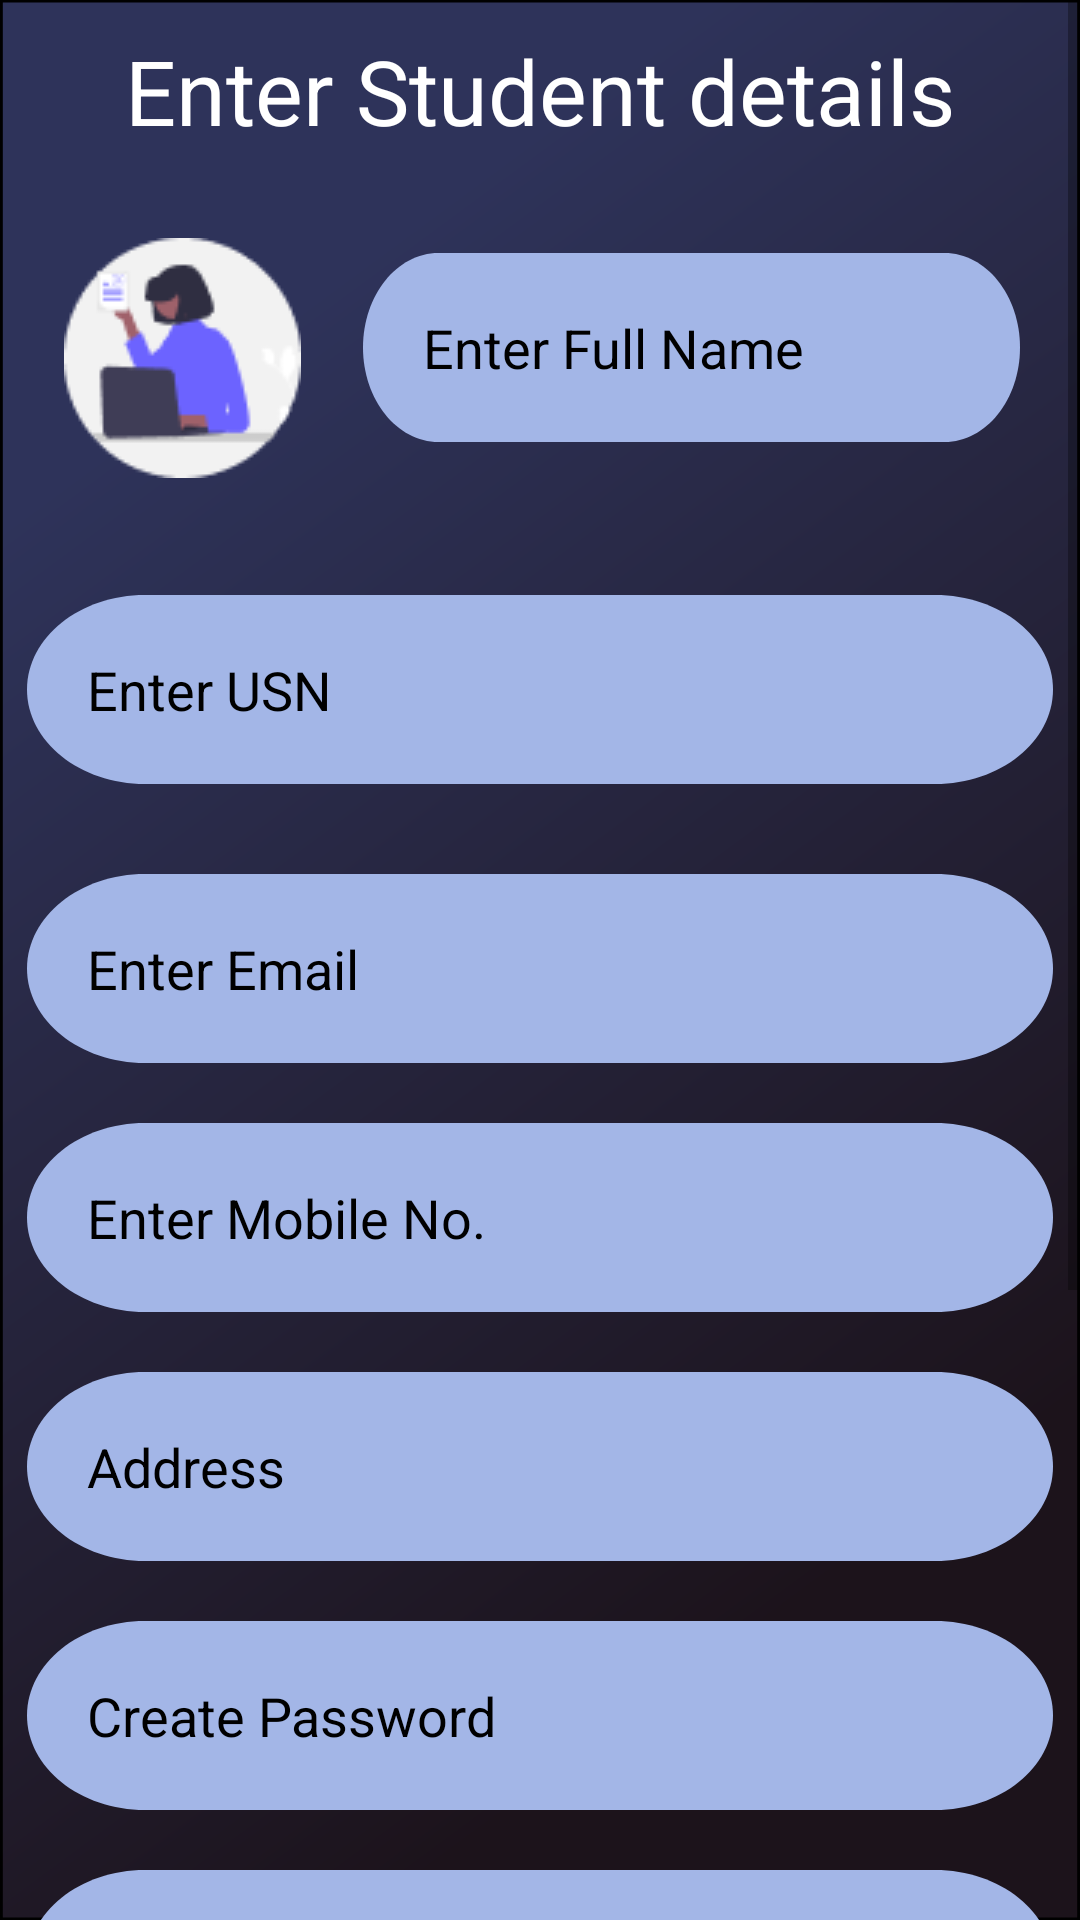

Icons on this 1080×1920 Android screen, each with the point to tap as (x,y):
student ragistration: (182,358)
